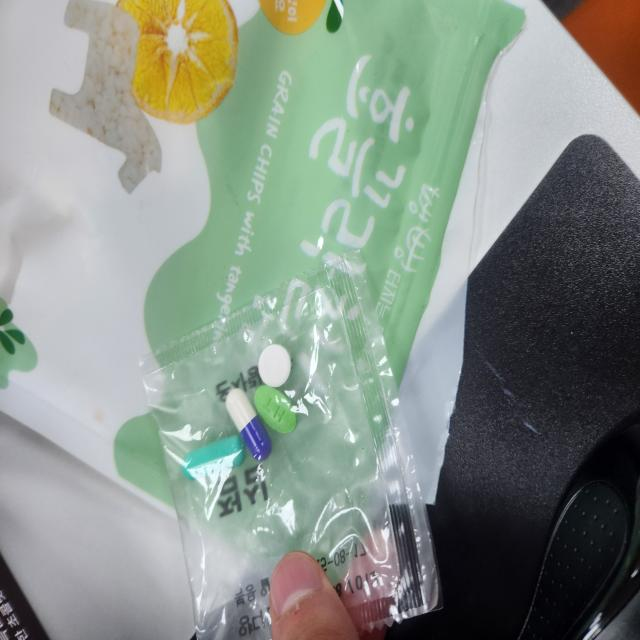러키펜정: (256, 345, 292, 390)
씨엠지세파클러캡슐: (225, 388, 272, 461)
에르도캡슐: (180, 435, 245, 482)
휴티렌정: (254, 385, 296, 434)
